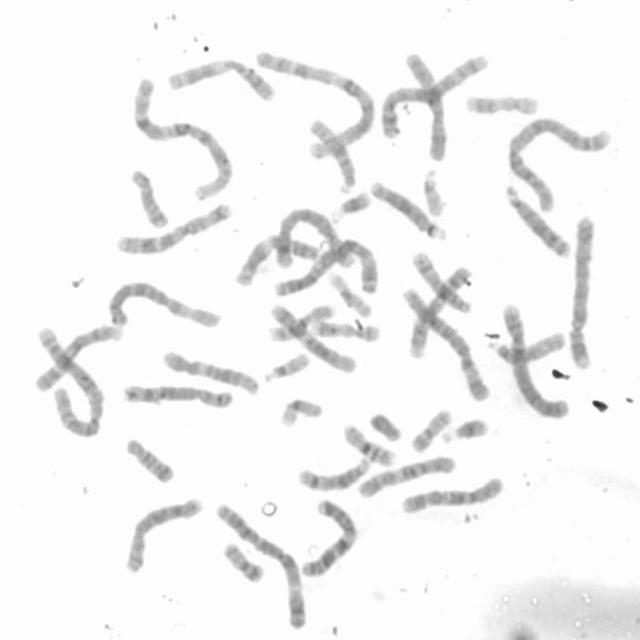A1: (254, 46, 377, 158), (130, 77, 234, 201)
A2: (505, 118, 613, 214), (33, 321, 107, 440)
A3: (215, 500, 310, 633), (272, 238, 378, 297)
B4: (498, 298, 571, 422), (567, 215, 600, 371)
B5: (378, 51, 491, 141), (271, 208, 355, 273)
C10: (356, 455, 459, 501), (401, 475, 506, 516)
C11: (166, 58, 277, 104), (232, 235, 321, 287)
C12: (270, 302, 358, 374), (162, 349, 261, 395)
C6: (400, 287, 492, 404), (105, 280, 222, 334)
C7: (114, 201, 236, 259), (298, 499, 361, 578)
C8: (123, 495, 206, 574), (124, 380, 236, 412)
C9: (406, 266, 476, 362), (34, 324, 124, 394)
D13: (501, 183, 572, 262), (366, 178, 448, 242)
D14: (411, 250, 474, 315), (296, 454, 373, 495)
D15: (308, 118, 357, 194), (484, 331, 566, 367)
E16: (267, 304, 337, 344), (342, 420, 396, 467)
E17: (465, 91, 541, 119), (310, 318, 383, 343)
E18: (128, 168, 170, 230), (125, 436, 175, 485)
F19: (326, 269, 374, 319), (277, 397, 327, 429)
F20: (411, 406, 454, 455), (222, 540, 265, 584)
G21: (438, 417, 490, 449), (328, 190, 373, 224)
G22: (422, 166, 450, 220), (264, 350, 308, 383)
X: (402, 47, 452, 162)
Y: (365, 411, 402, 444)
